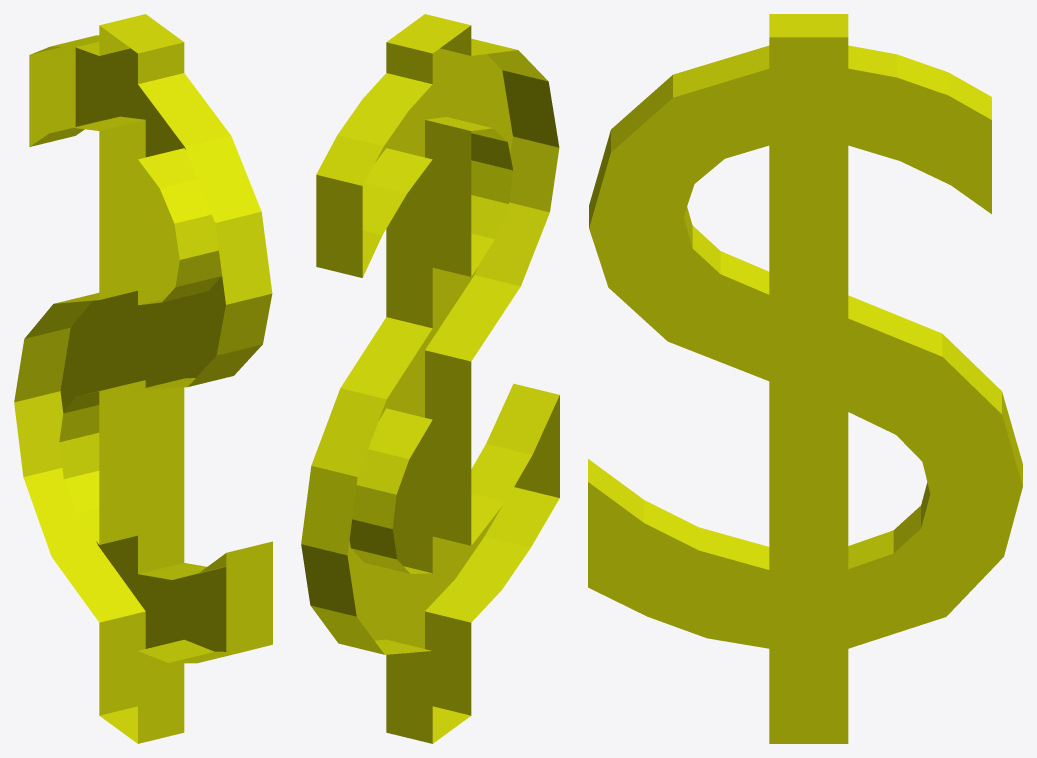
File: dollar_sign.fbx
3 renders of one model, left to right at view 1: azimuth 30°, elevation 25°; view 2: azimuth 150°, elevation 25°; view 3: azimuth 270°, elevation 25°, orthographic. The views are drawn at different scales.
Visible parts, largest first — view 1: Text; view 2: Text; view 3: Text.
Part boxes in pixels (<box>): Text: <box>14,14,272,743</box>; Text: <box>301,14,559,743</box>; Text: <box>588,14,1022,743</box>.
Size of the model in its own units: 18.6 by 264 by 147.
